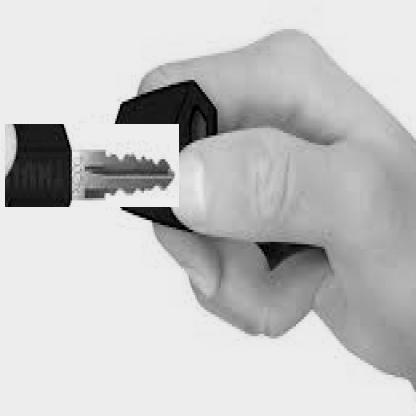key: (5, 124, 179, 207)
